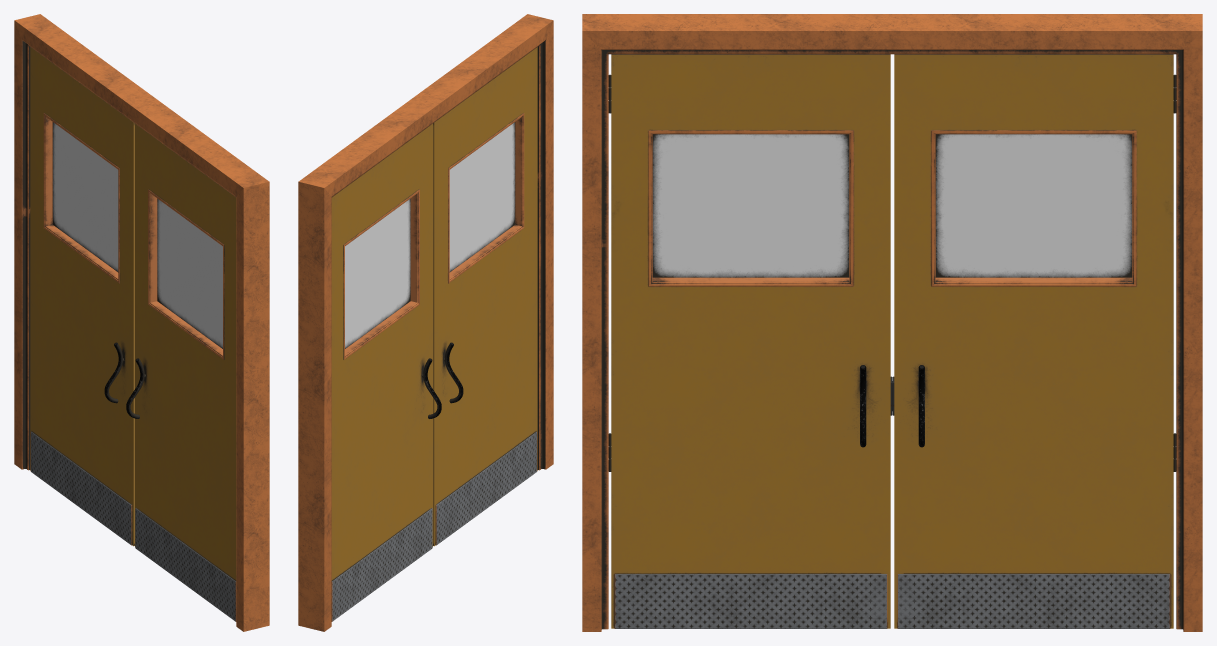
The model's file is school.fbx_gym_door.fbx.
The picture shows the model from 3 angles, left to right: view 1: azimuth 30°, elevation 25°; view 2: azimuth 150°, elevation 25°; view 3: azimuth 270°, elevation 25°; orthographic projection. The views are drawn at different scales.
Visible parts, largest first — view 1: L_01_0, F1_02_0, R_01_0, L_GLASS_0, R_GLASS_0, L_02_0, R_02_0; view 2: R_01_0, F1_02_0, L_01_0, R_GLASS_0, L_GLASS_0, R_02_0, L_02_0; view 3: L_01_0, R_01_0, F1_02_0, L_GLASS_0, R_GLASS_0, L_02_0, R_02_0.
Boxes of the visible parts, <box> form: L_01_0: <box>30,47,134,546</box>; F1_02_0: <box>14,14,269,631</box>; R_01_0: <box>126,123,236,580</box>; L_GLASS_0: <box>52,122,118,272</box>; R_GLASS_0: <box>157,198,222,348</box>; L_02_0: <box>30,113,132,545</box>; R_02_0: <box>135,189,236,621</box>; R_01_0: <box>433,47,537,546</box>; F1_02_0: <box>298,14,553,631</box>; L_01_0: <box>331,123,441,580</box>; R_GLASS_0: <box>449,122,515,272</box>; L_GLASS_0: <box>345,198,410,348</box>; R_02_0: <box>435,113,537,545</box>; L_02_0: <box>331,189,432,621</box>; L_01_0: <box>894,54,1176,628</box>; R_01_0: <box>608,54,890,628</box>; F1_02_0: <box>582,14,1202,631</box>; L_GLASS_0: <box>935,134,1132,277</box>; R_GLASS_0: <box>652,134,849,277</box>; L_02_0: <box>892,130,1170,628</box>; R_02_0: <box>614,130,892,628</box>.
Bounding box in the file's own units: 38.38 × 309 × 289.
